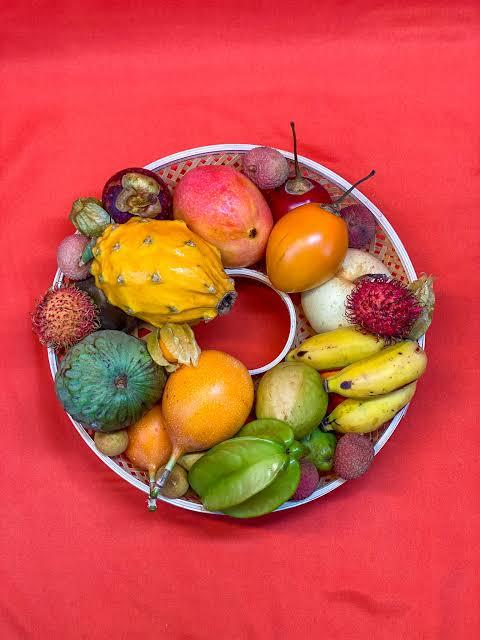chom_chom: (344, 269, 426, 343)
